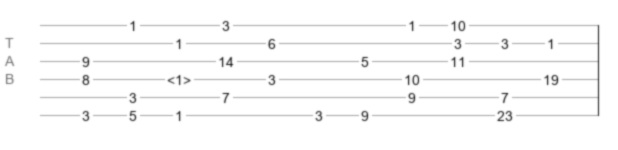1: (129, 18, 137, 28), (175, 36, 183, 46), (175, 108, 183, 118), (408, 18, 416, 28), (547, 36, 555, 46)
10: (404, 72, 420, 82), (450, 18, 466, 28)
11: (450, 54, 466, 64)
14: (218, 54, 234, 64)
19: (543, 72, 559, 82)
23: (497, 108, 513, 118)
3: (82, 108, 90, 118), (129, 90, 137, 100), (222, 18, 230, 28), (268, 72, 276, 82), (315, 108, 323, 118), (454, 36, 462, 46), (501, 36, 509, 46)
5: (129, 108, 137, 118), (361, 54, 369, 64)
6: (268, 36, 276, 46)
7: (222, 90, 230, 100), (501, 90, 509, 100)
8: (82, 72, 90, 82)
9: (82, 54, 90, 64), (361, 108, 369, 118), (408, 90, 416, 100)
harmonic: (167, 72, 191, 82)
